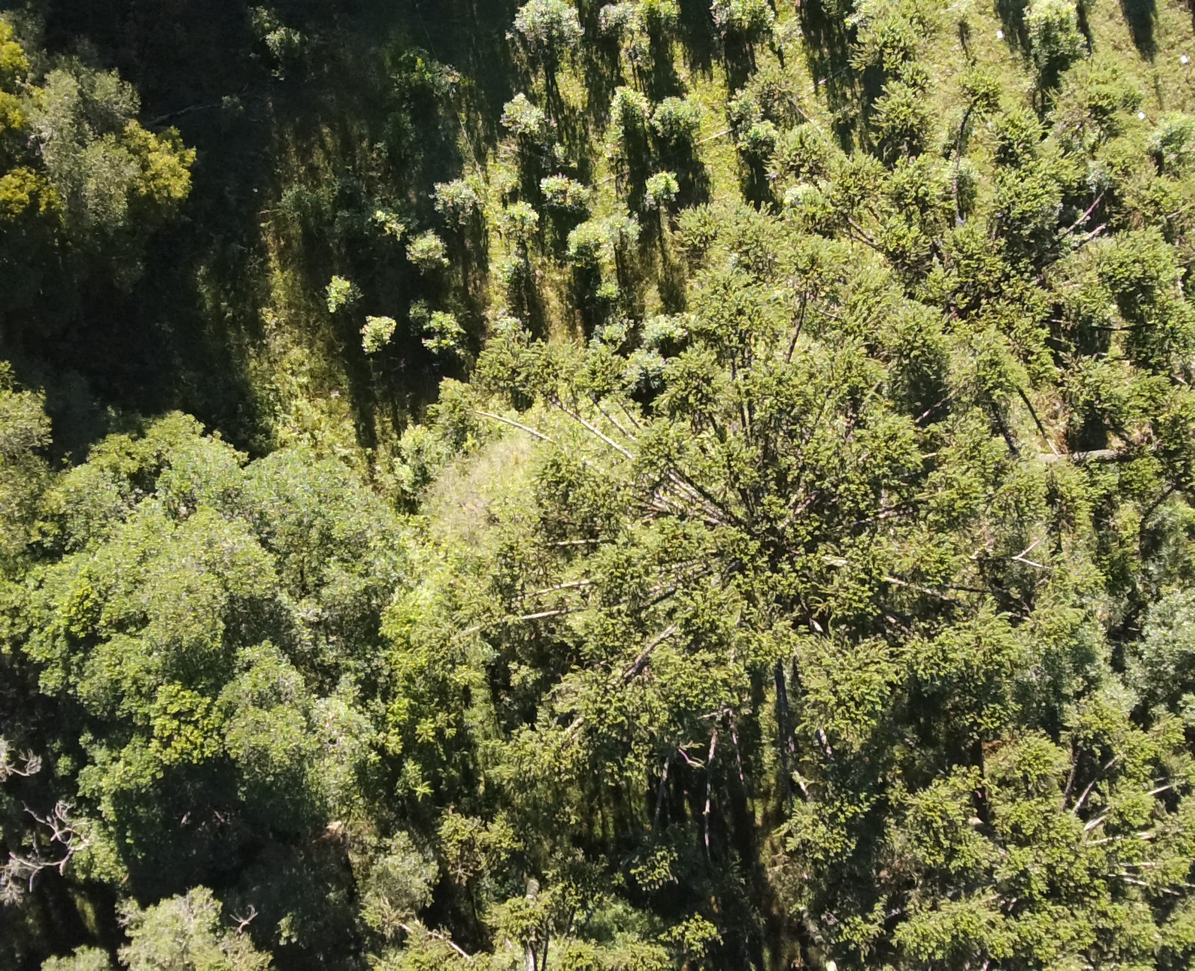erva: (514, 2, 576, 56), (315, 258, 364, 319), (601, 85, 652, 140), (500, 92, 549, 149), (423, 169, 471, 224), (485, 242, 536, 288), (565, 217, 609, 270), (352, 304, 392, 355), (654, 101, 702, 143), (635, 167, 680, 211), (407, 222, 447, 270), (500, 197, 546, 236), (541, 169, 592, 201), (730, 124, 777, 155)
